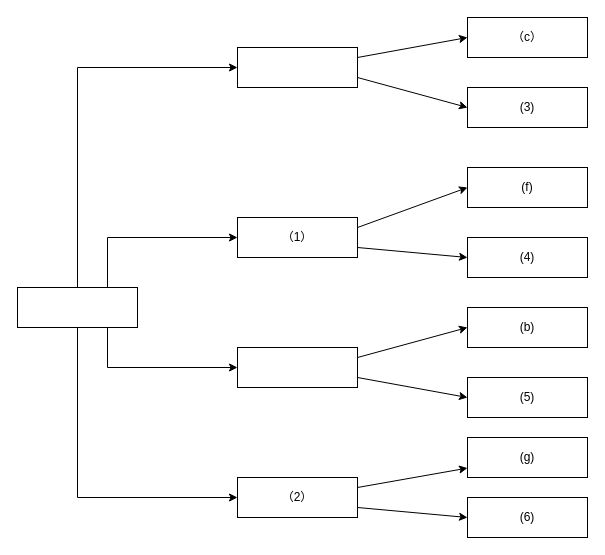
Some shapes in this 605 by 555 pixel diagram are drawn without their labels. Here are the shapes that lost their labels. From the top down, the box of each, then its label:
(236, 46, 358, 88): 可用性
(16, 286, 138, 328): 效用
(236, 346, 358, 388): 安全
